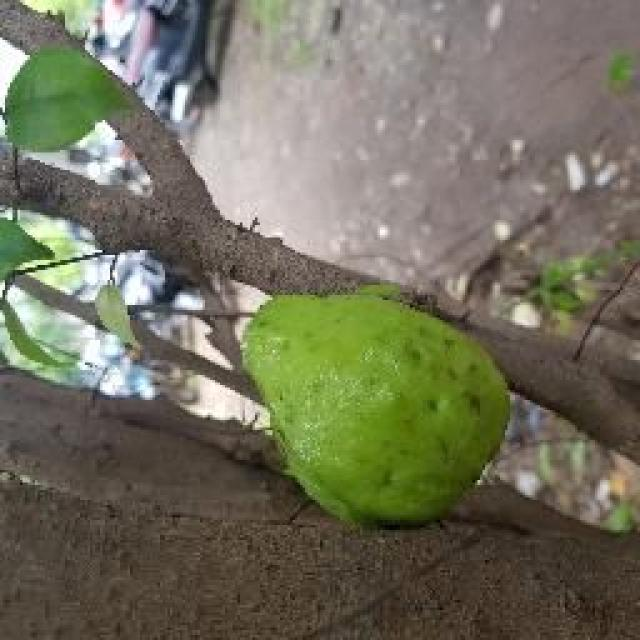Good_Guava: (238, 292, 512, 532)
